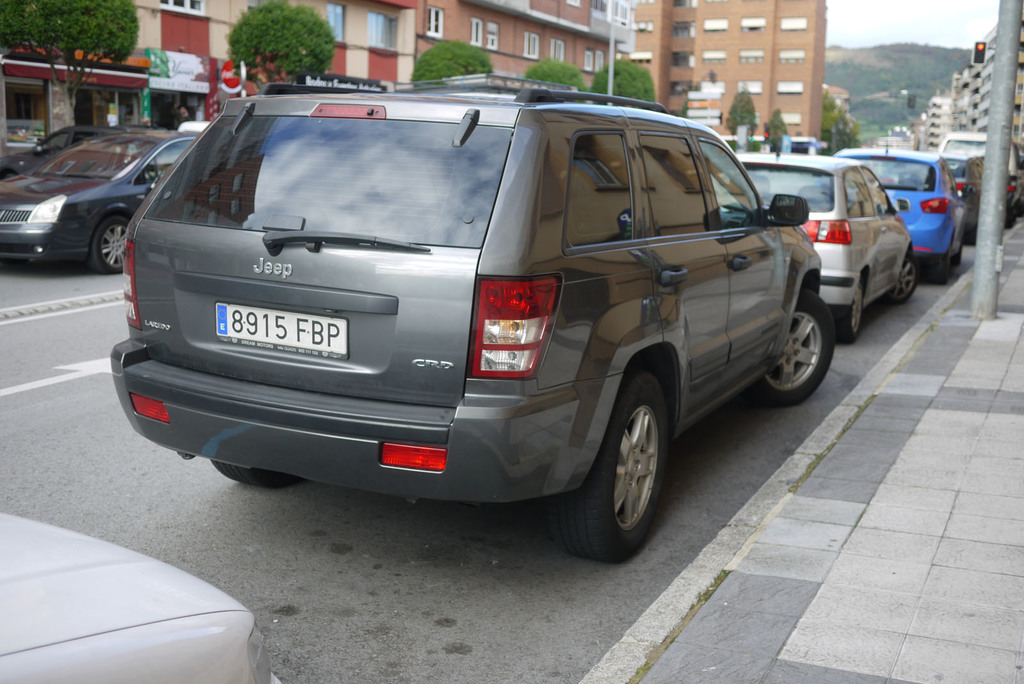license plate: (216, 302, 360, 339)
